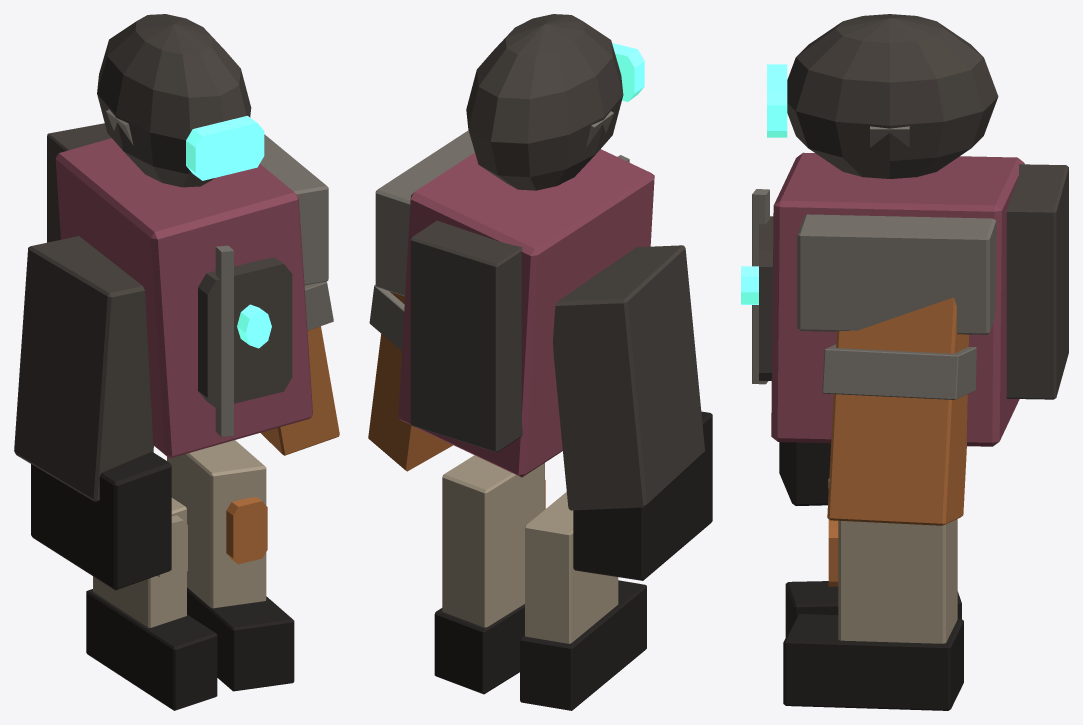
File: enemy_standard__intact.glb
3 views of the same model, side by side, from view 1: azimuth 30°, elevation 25°; view 2: azimuth 150°, elevation 25°; view 3: azimuth 270°, elevation 25° (orthographic). The views are drawn at different scales.
Visible parts, largest first — view 1: ROLE_primary, ROLE_threat, ROLE_rubber, ROLE_secondary, ROLE_bareMetal, ROLE_accent, ROLE_interaction; view 2: ROLE_primary, ROLE_threat, ROLE_rubber, ROLE_secondary, ROLE_bareMetal, ROLE_accent, ROLE_interaction; view 3: ROLE_primary, ROLE_bareMetal, ROLE_threat, ROLE_accent, ROLE_rubber, ROLE_secondary, ROLE_interaction.
Boxes of the visible parts, left/top/right/bottom form: ROLE_primary: left=14, top=14, right=292, bottom=501; ROLE_threat: left=55, top=138, right=312, bottom=458; ROLE_rubber: left=31, top=452, right=294, bottom=710; ROLE_secondary: left=93, top=440, right=266, bottom=627; ROLE_bareMetal: left=106, top=109, right=333, bottom=436; ROLE_accent: left=226, top=285, right=339, bottom=564; ROLE_interaction: left=186, top=115, right=271, bottom=348; ROLE_primary: left=410, top=14, right=704, bottom=510; ROLE_threat: left=398, top=149, right=654, bottom=477; ROLE_rubber: left=434, top=411, right=712, bottom=710; ROLE_secondary: left=442, top=455, right=618, bottom=643; ROLE_bareMetal: left=369, top=111, right=629, bottom=350; ROLE_accent: left=368, top=291, right=545, bottom=509; ROLE_interaction: left=612, top=43, right=644, bottom=101; ROLE_primary: left=759, top=14, right=1068, bottom=399; ROLE_bareMetal: left=752, top=126, right=996, bottom=399; ROLE_threat: left=771, top=152, right=1024, bottom=446; ROLE_accent: left=827, top=297, right=968, bottom=586; ROLE_rubber: left=779, top=442, right=963, bottom=710; ROLE_secondary: left=828, top=479, right=957, bottom=643; ROLE_interaction: left=741, top=64, right=787, bottom=304.
Size of the model in its own units: 2.5 by 5.5 by 2.5.
